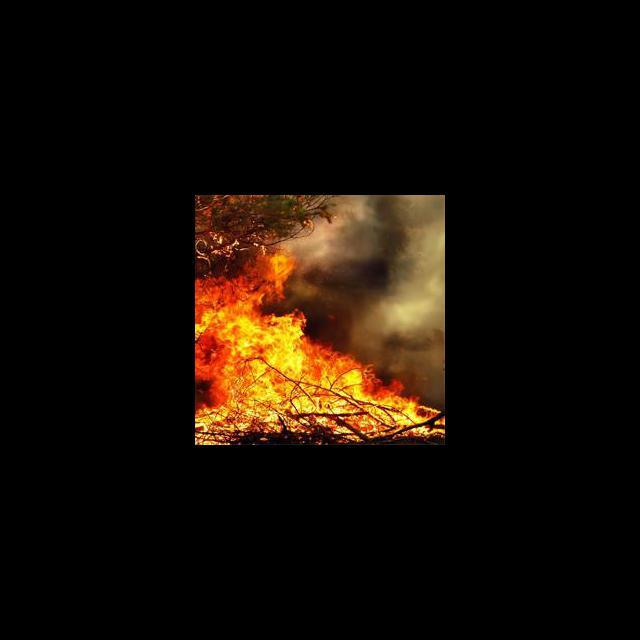Fire: (195, 247, 444, 444)
